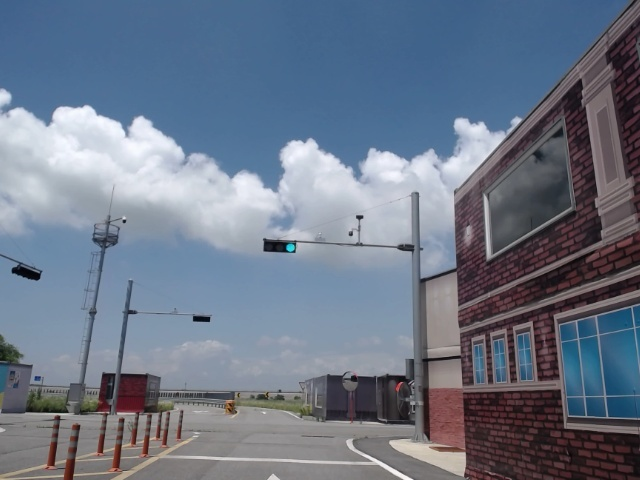green_3: (264, 241, 294, 251)
